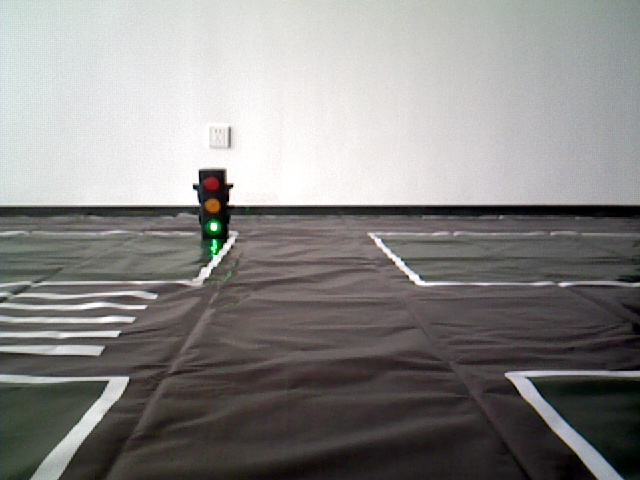green: (196, 170, 225, 237)
